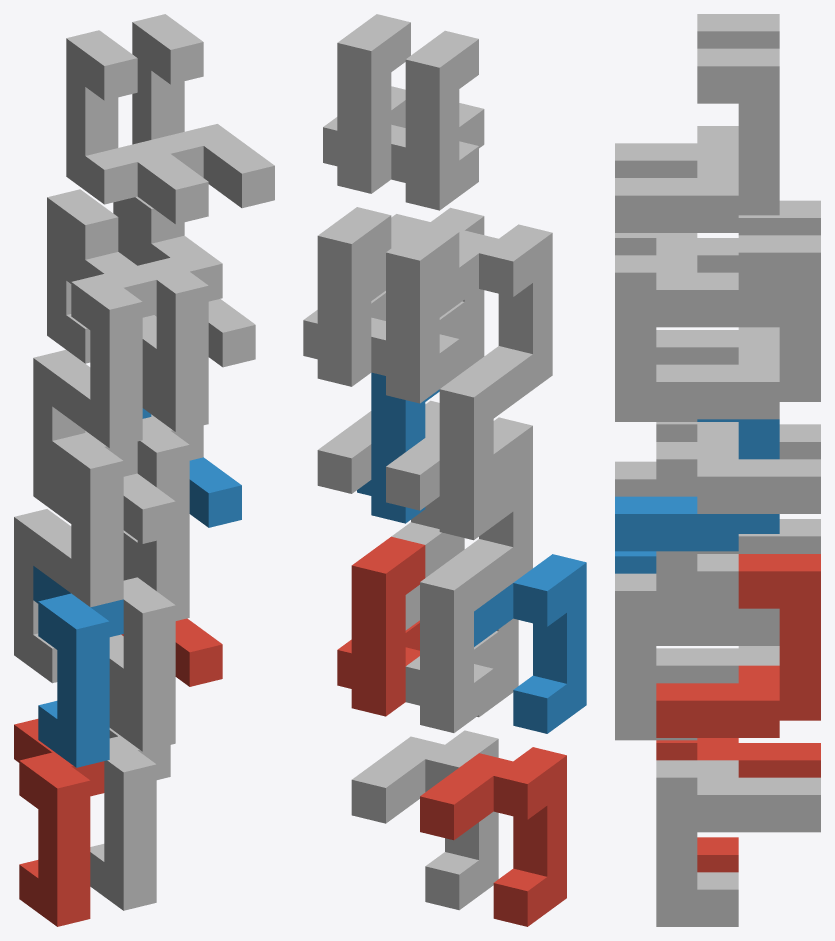
File: tiling.obj
The picture shows the model from 3 angles, left to right: view 1: azimuth 30°, elevation 25°; view 2: azimuth 150°, elevation 25°; view 3: azimuth 270°, elevation 25°; orthographic projection. The views are drawn at different scales.
Visible parts, largest first — view 1: copy_2_domain_4, copy_1_domain_4, copy_2_domain_8, copy_1_domain_1, copy_1_domain_8, copy_1_domain_2, copy_1_domain_3, copy_1_domain_6, copy_1_domain_5, copy_2_domain_2, copy_2_domain_3, copy_1_domain_7 (+4 smaller); view 2: copy_1_domain_1, copy_2_domain_4, copy_1_domain_2, copy_2_domain_3, copy_2_domain_1, copy_1_domain_4, copy_1_domain_5, copy_2_domain_8, copy_2_domain_7, copy_2_domain_5, copy_2_domain_2, copy_1_domain_3 (+4 smaller); view 3: copy_2_domain_7, copy_2_domain_8, copy_1_domain_5, copy_2_domain_5, copy_1_domain_7, copy_1_domain_8, copy_1_domain_6, copy_2_domain_6, copy_2_domain_4, copy_1_domain_1, copy_2_domain_3, copy_2_domain_1 (+4 smaller).
Boxes of the visible parts, x1,y1,x2,y2 form: copy_2_domain_4: (66, 30, 208, 224); copy_1_domain_4: (66, 246, 156, 448); copy_2_domain_8: (132, 14, 274, 208); copy_1_domain_1: (14, 719, 104, 926); copy_1_domain_8: (132, 230, 222, 431); copy_1_domain_2: (33, 566, 123, 767); copy_1_domain_3: (52, 431, 137, 607); copy_1_domain_6: (109, 567, 189, 751); copy_1_domain_5: (90, 728, 170, 910); copy_2_domain_2: (33, 350, 175, 543); copy_2_domain_3: (47, 189, 156, 383); copy_1_domain_7: (123, 414, 203, 591); copy_1_domain_1: (420, 747, 566, 926); copy_2_domain_4: (391, 30, 484, 210); copy_1_domain_2: (474, 554, 586, 733); copy_2_domain_3: (371, 223, 464, 403); copy_2_domain_1: (405, 553, 498, 732); copy_1_domain_4: (439, 224, 552, 403); copy_1_domain_5: (351, 730, 498, 910); copy_2_domain_8: (323, 14, 410, 193); copy_2_domain_7: (303, 207, 391, 386); copy_2_domain_5: (337, 536, 425, 716); copy_2_domain_2: (425, 360, 513, 540); copy_1_domain_3: (386, 417, 532, 596); copy_2_domain_7: (656, 235, 820, 419); copy_2_domain_8: (615, 48, 779, 232); copy_1_domain_5: (656, 760, 820, 926); copy_2_domain_5: (656, 554, 820, 737); copy_1_domain_7: (656, 442, 820, 608); copy_1_domain_8: (615, 255, 779, 421); copy_1_domain_6: (615, 573, 779, 740); copy_2_domain_6: (615, 419, 779, 551); copy_2_domain_4: (615, 14, 779, 177); copy_1_domain_1: (656, 738, 820, 872); copy_2_domain_3: (656, 200, 820, 364); copy_2_domain_1: (656, 519, 820, 683).
Size of the model in its own units: 6 by 24 by 5.
